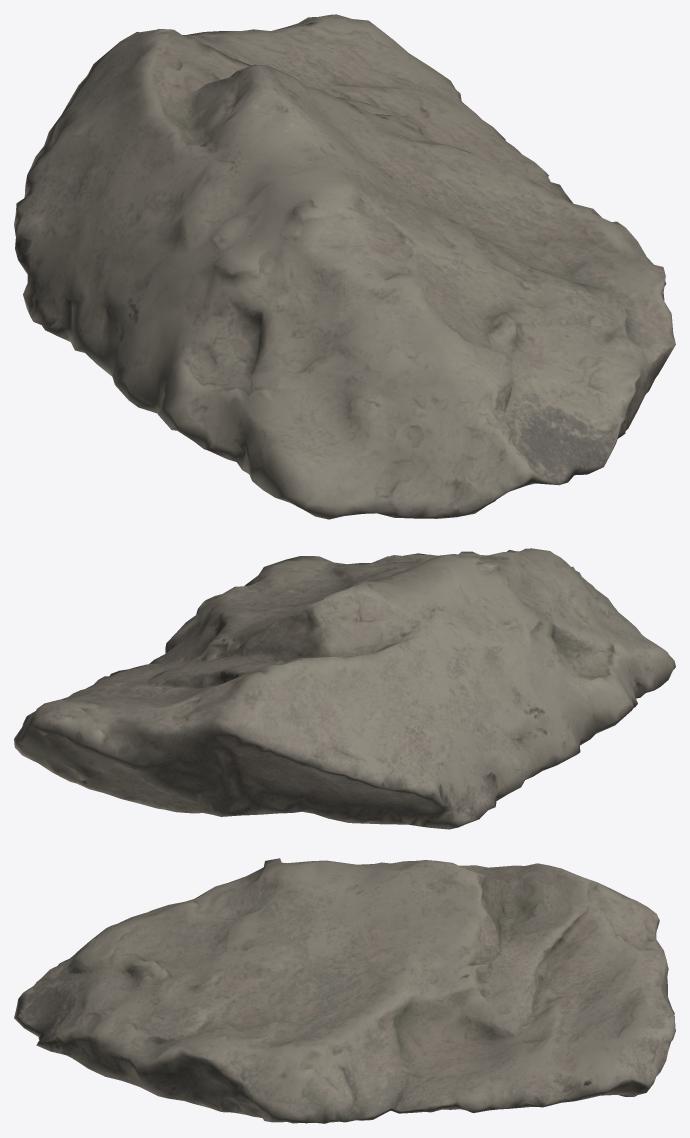
File: moon_rock_04.glb
3 views of the same model, one above another, from view 1: azimuth 30°, elevation 25°; view 2: azimuth 150°, elevation 25°; view 3: azimuth 270°, elevation 25° (orthographic). The views are drawn at different scales.
Parts seen in each view (by area): view 1: lod0; view 2: lod0; view 3: lod0.
Part boxes in pixels (x1,y1,x2,y2): lod0: (14, 14, 675, 519); lod0: (14, 548, 675, 829); lod0: (14, 858, 675, 1123).
Size of what is drawn, in the model's own units: 2.08 by 0.9328 by 3.01.
Materials: 1 (1 with a texture image).
